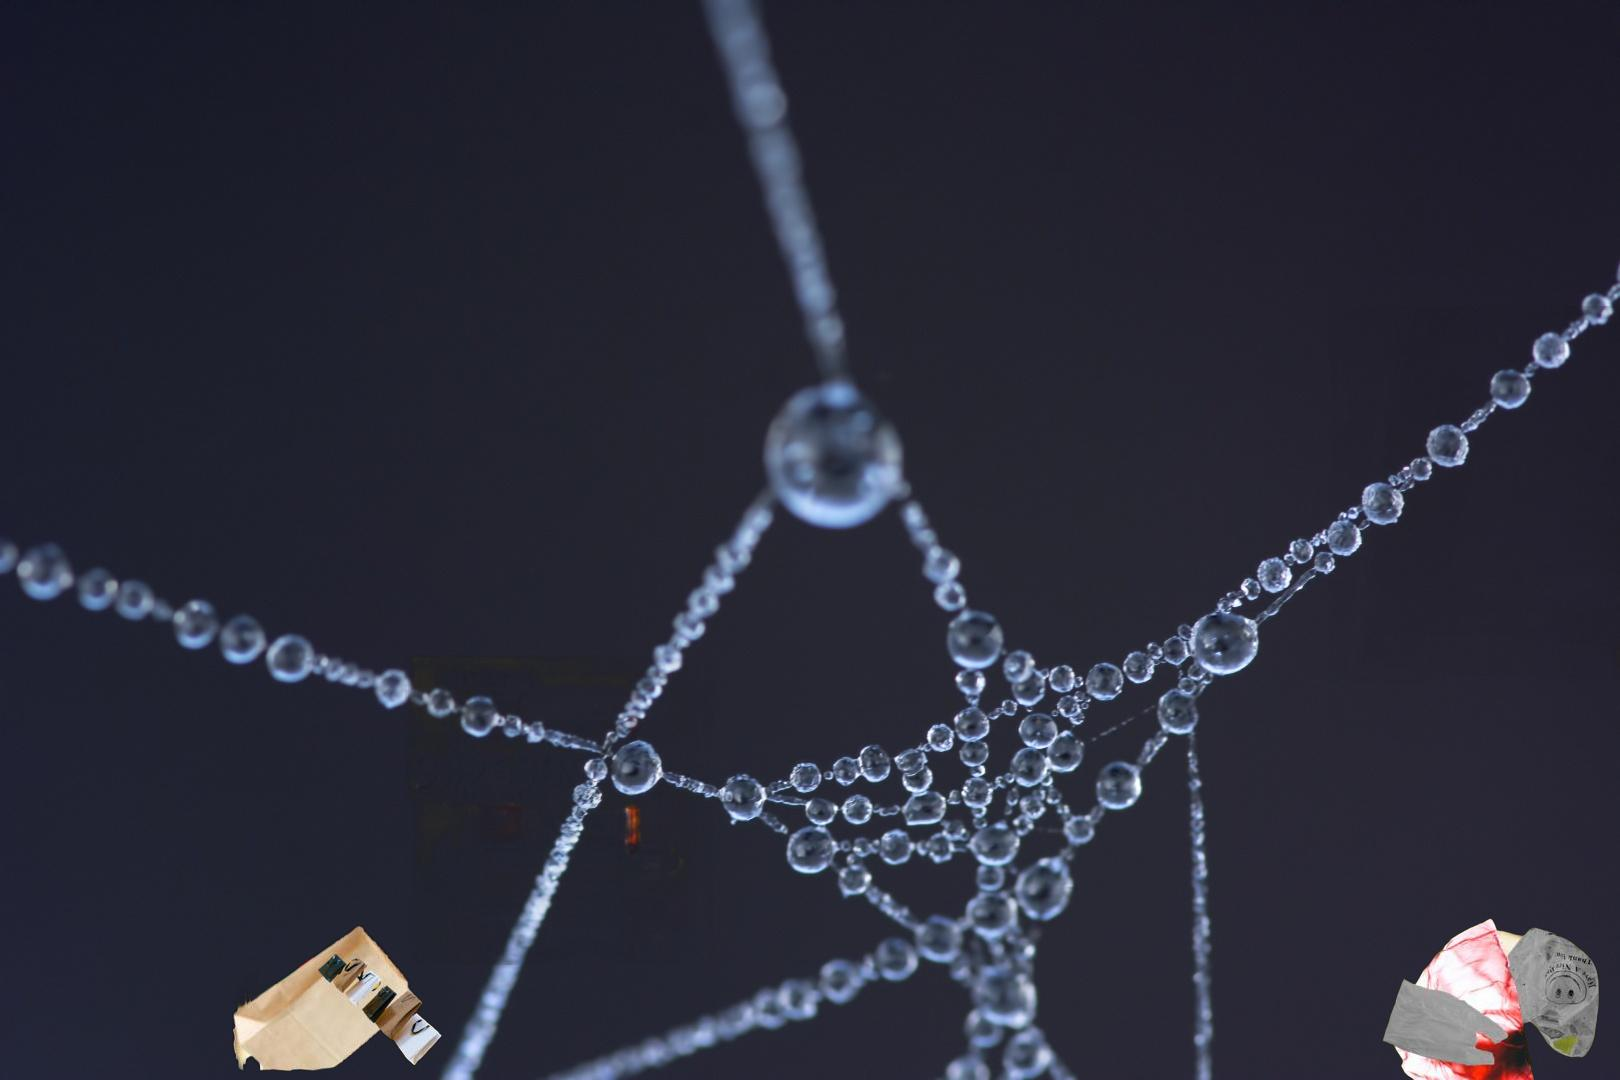battery: (405, 655, 715, 965)
clothes: (1433, 984, 1620, 1080)
paper-bag: (229, 923, 445, 1080)
plastic-bag: (1379, 916, 1602, 1080)
trashbox-cardboard: (1322, 306, 1620, 689)
